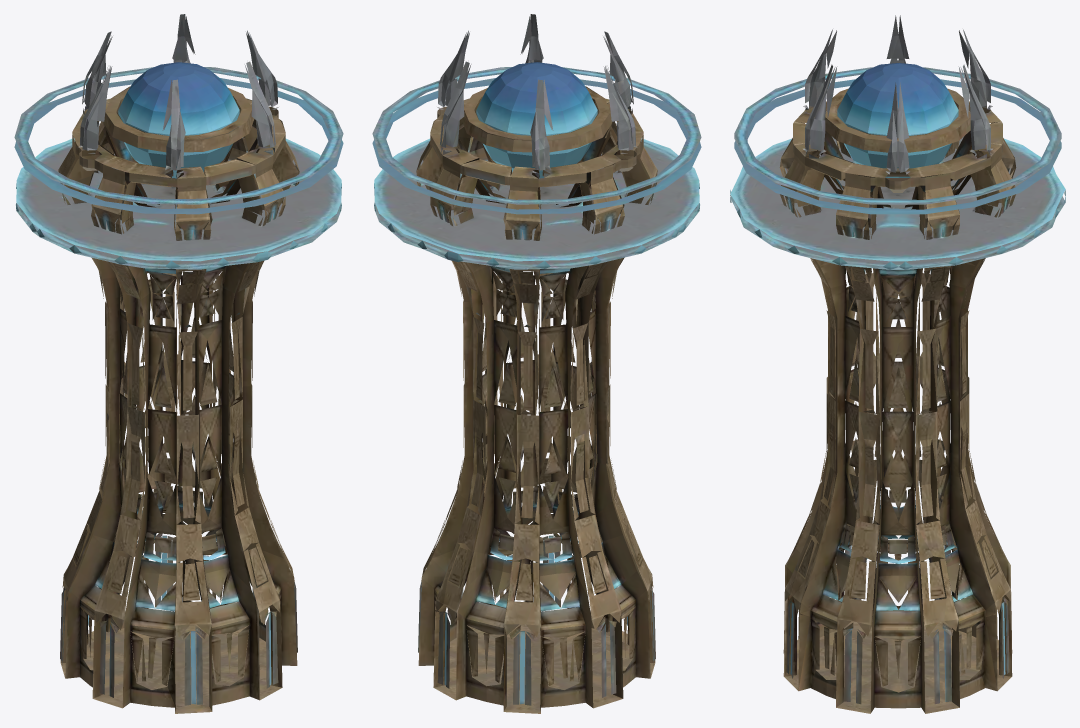
Rendered from alien_tower_LOD1.glb.
3 views of the same model, side by side, from view 1: azimuth 30°, elevation 25°; view 2: azimuth 150°, elevation 25°; view 3: azimuth 270°, elevation 25° (orthographic).
Parts seen in each view (by area): view 1: alien_tower_LOD1; view 2: alien_tower_LOD1; view 3: alien_tower_LOD1.
Part boxes in pixels (x1,y1,x2,y2): alien_tower_LOD1: (14, 14, 343, 713); alien_tower_LOD1: (372, 14, 701, 713); alien_tower_LOD1: (730, 15, 1065, 713).
Bounding box in the file's own units: 0.4834 × 0.998 × 0.4912.
1 material, 1 textured.
